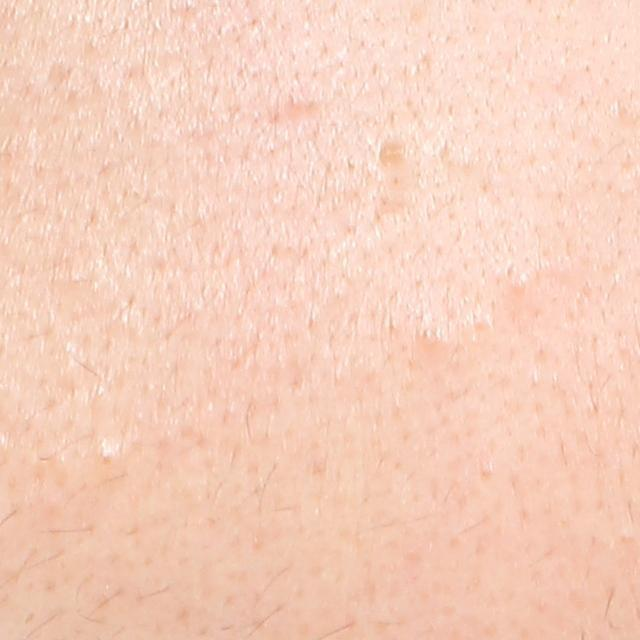comedo: (412, 321, 458, 358), (92, 439, 123, 468), (376, 139, 405, 166)
